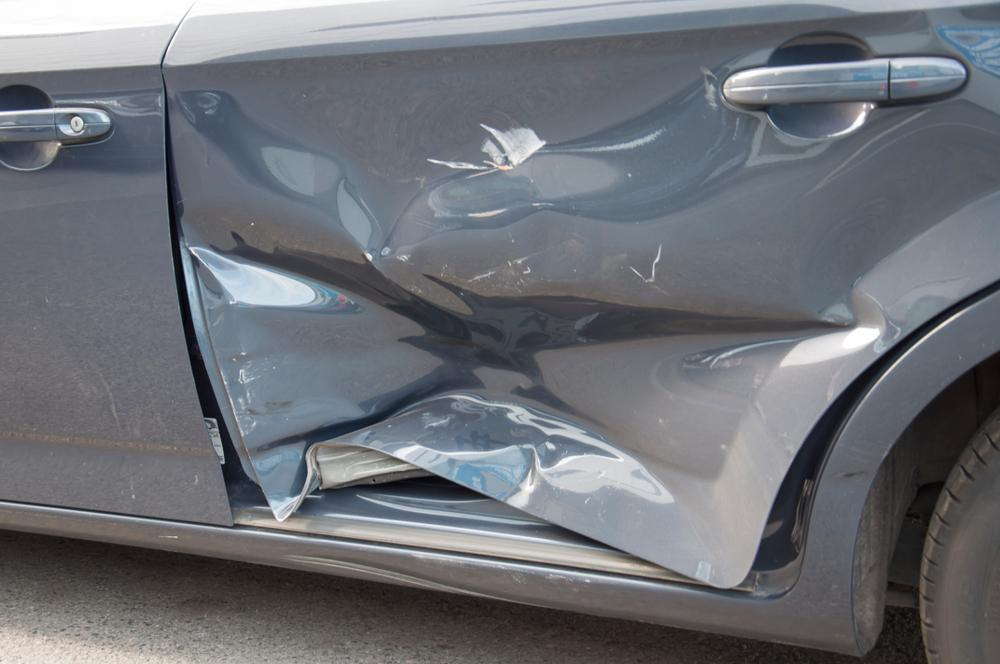dent: (204, 45, 884, 530)
